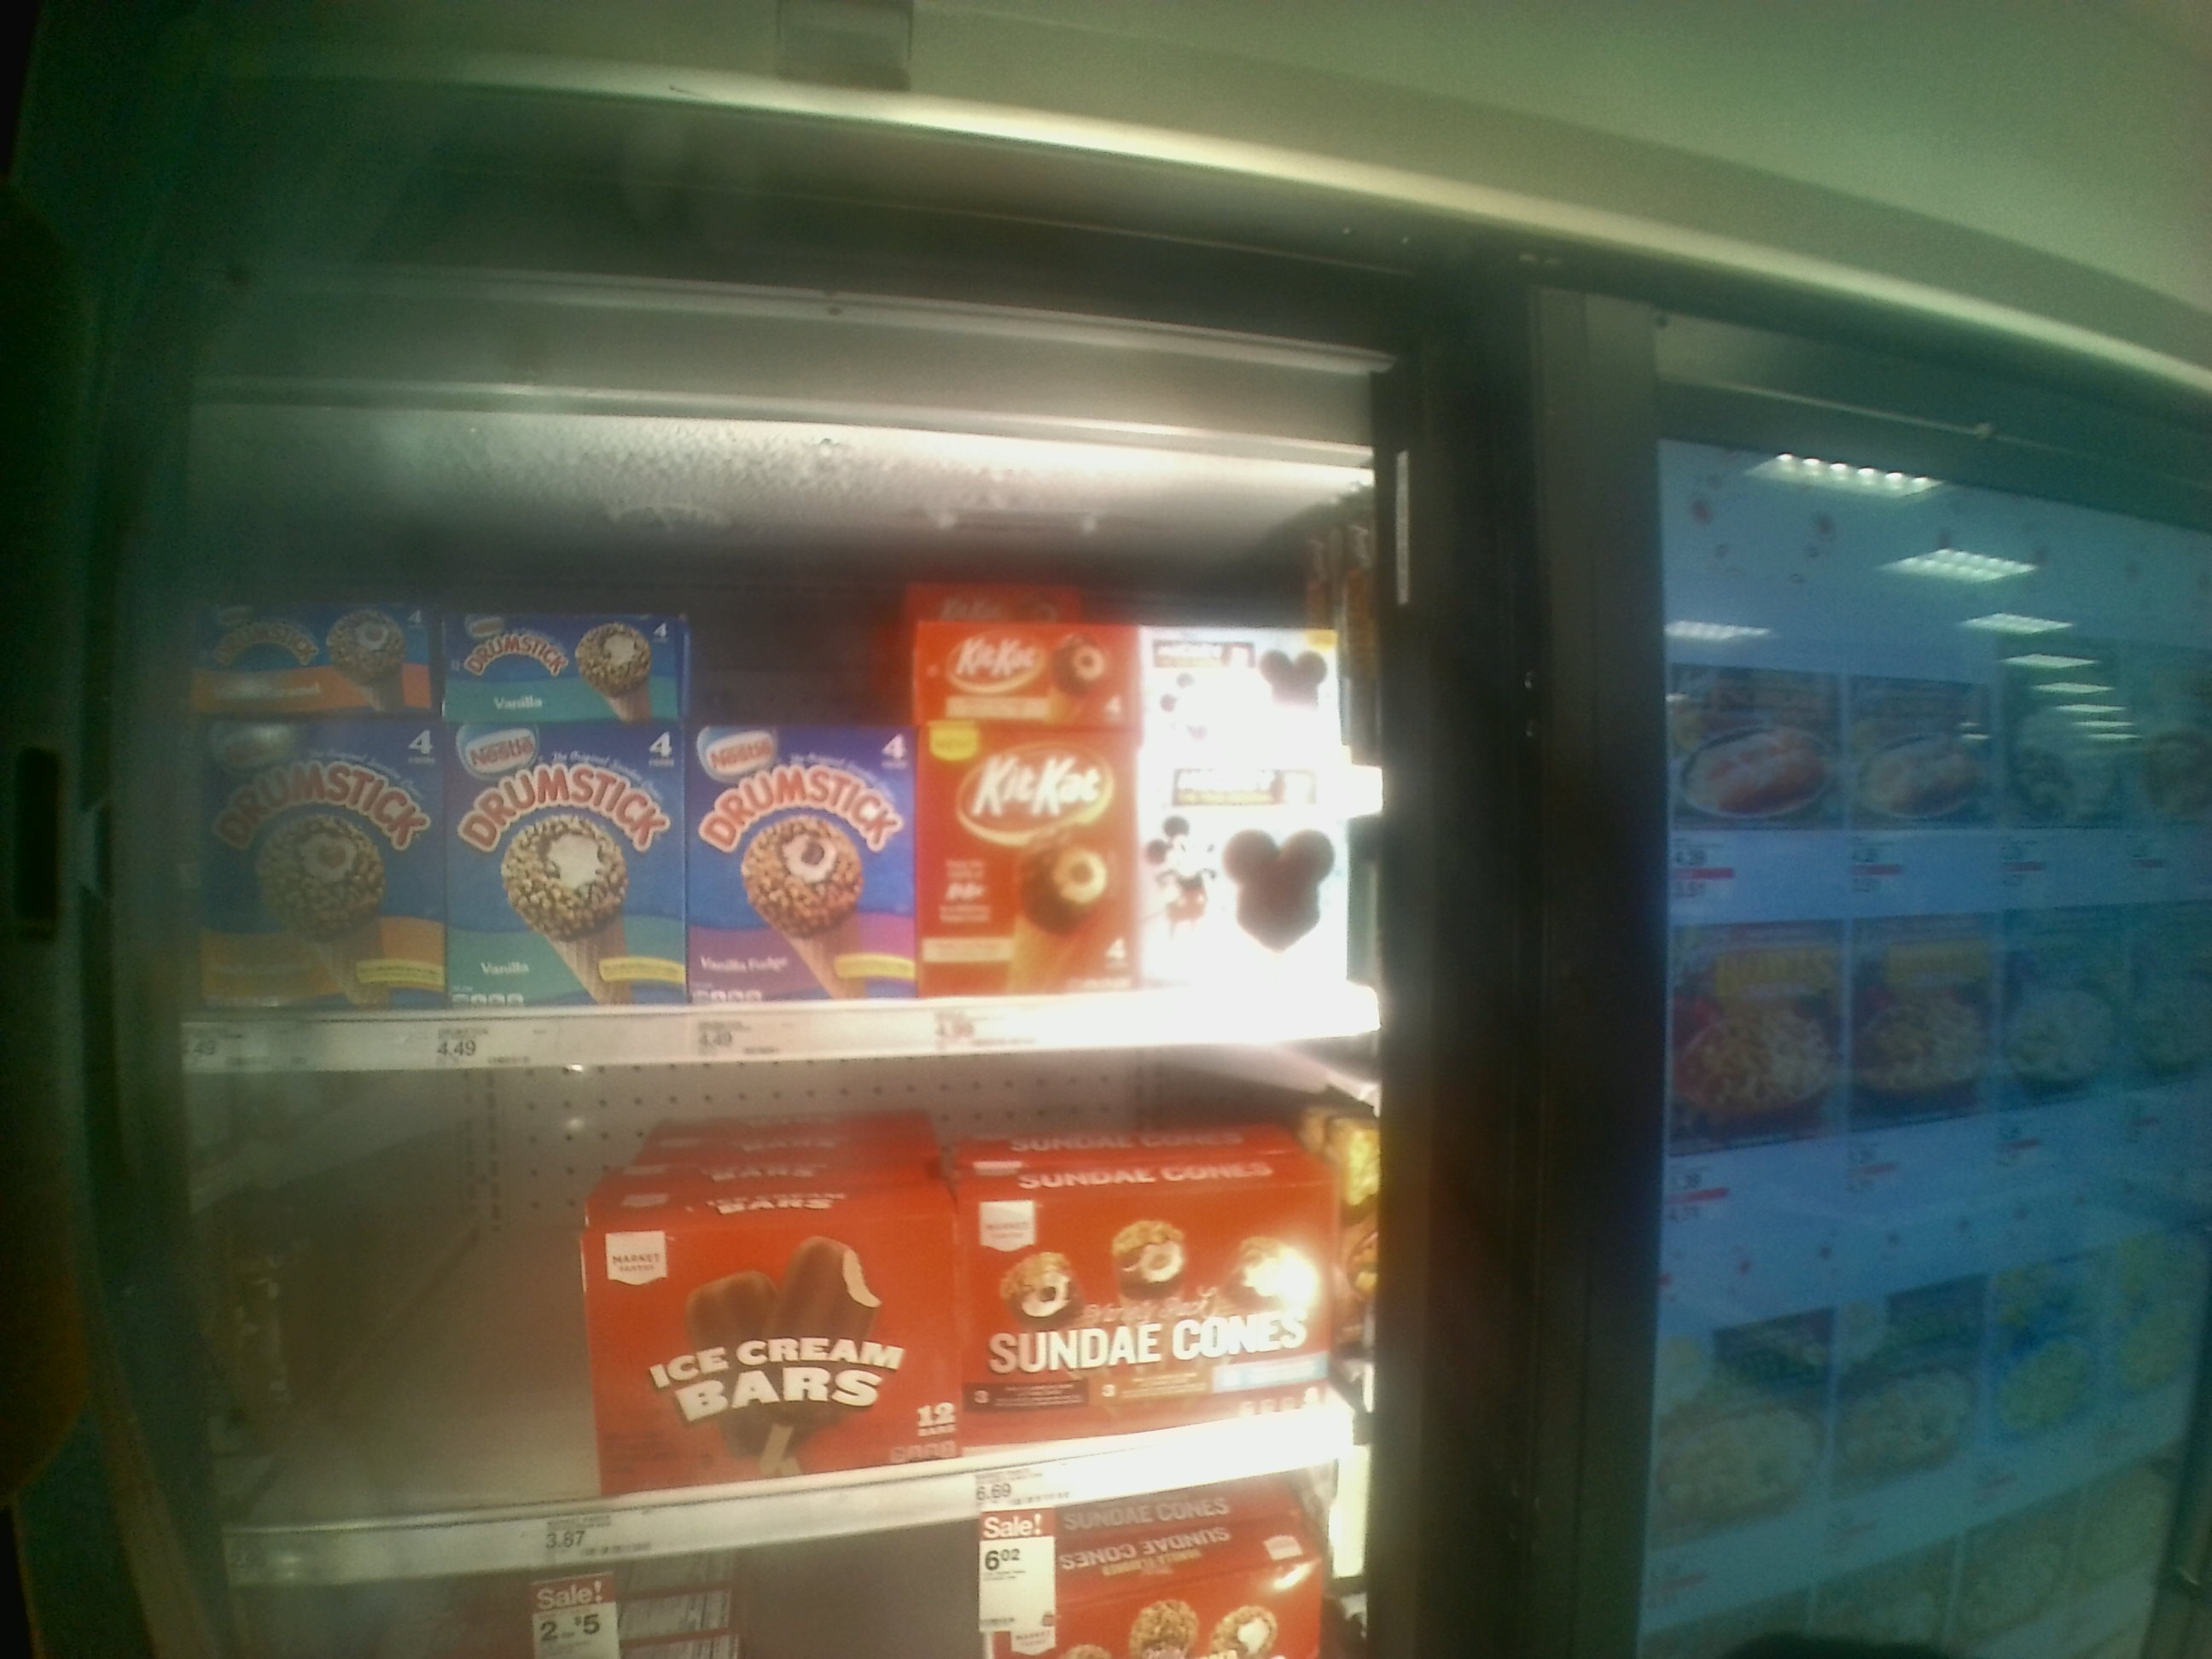frozen-food-shelf: (171, 533, 1435, 1080)
